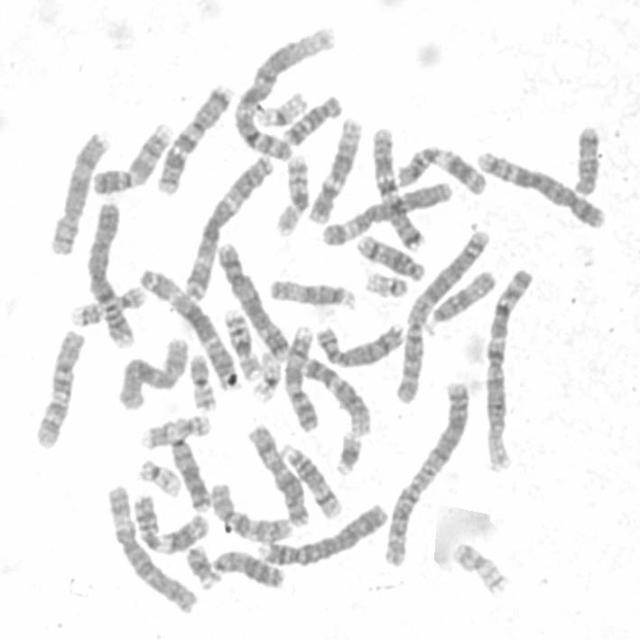A1: (233, 23, 338, 160), (485, 266, 533, 473)
A2: (395, 227, 490, 405), (384, 379, 469, 569)
A3: (185, 155, 273, 300), (140, 266, 239, 391)
B4: (255, 502, 391, 567), (84, 201, 135, 349)
B5: (476, 149, 606, 232), (217, 241, 289, 360)
C10: (34, 329, 88, 452), (209, 481, 296, 544)
C11: (394, 146, 488, 198), (132, 496, 210, 556)
C12: (307, 116, 362, 227), (302, 356, 372, 436)
C6: (106, 484, 198, 614), (320, 180, 452, 248)
C7: (157, 83, 232, 198), (371, 127, 426, 252)
C8: (47, 130, 108, 258), (316, 323, 403, 368)
C9: (90, 122, 172, 196), (284, 324, 320, 432)
D13: (166, 433, 211, 511), (211, 549, 286, 591)
D14: (279, 443, 344, 521), (355, 233, 427, 283)
D15: (421, 268, 498, 336), (272, 278, 358, 312)
E16: (182, 239, 310, 302), (221, 308, 262, 381)
E17: (70, 286, 146, 326), (142, 414, 209, 448)
E18: (282, 92, 345, 148), (574, 125, 600, 197)
F19: (254, 88, 307, 130), (252, 350, 282, 402)
F20: (453, 542, 510, 597), (190, 352, 218, 412)
G21: (185, 544, 224, 592), (334, 431, 365, 479)
G22: (138, 458, 182, 498), (364, 268, 412, 299)
X: (248, 423, 312, 528), (114, 338, 188, 414)
